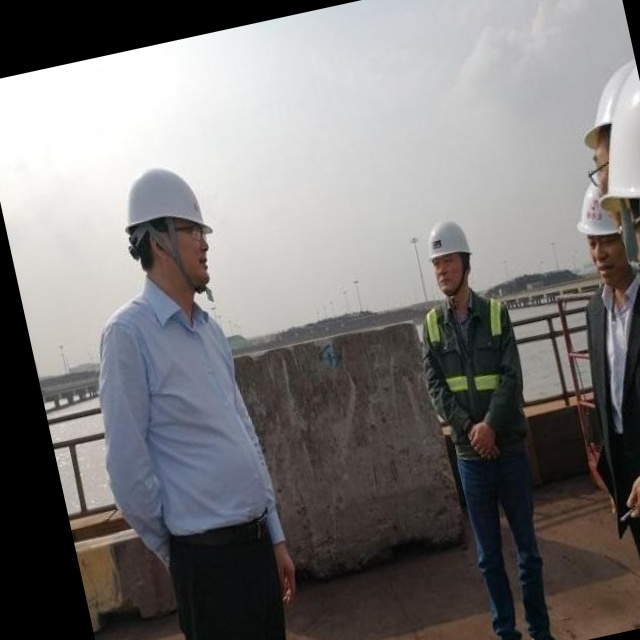Sin_Chaleco: (78, 275, 278, 545)
